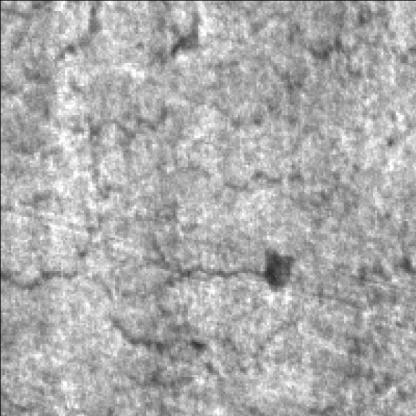crazing: (0, 6, 387, 162), (0, 152, 360, 297), (0, 268, 308, 406)
